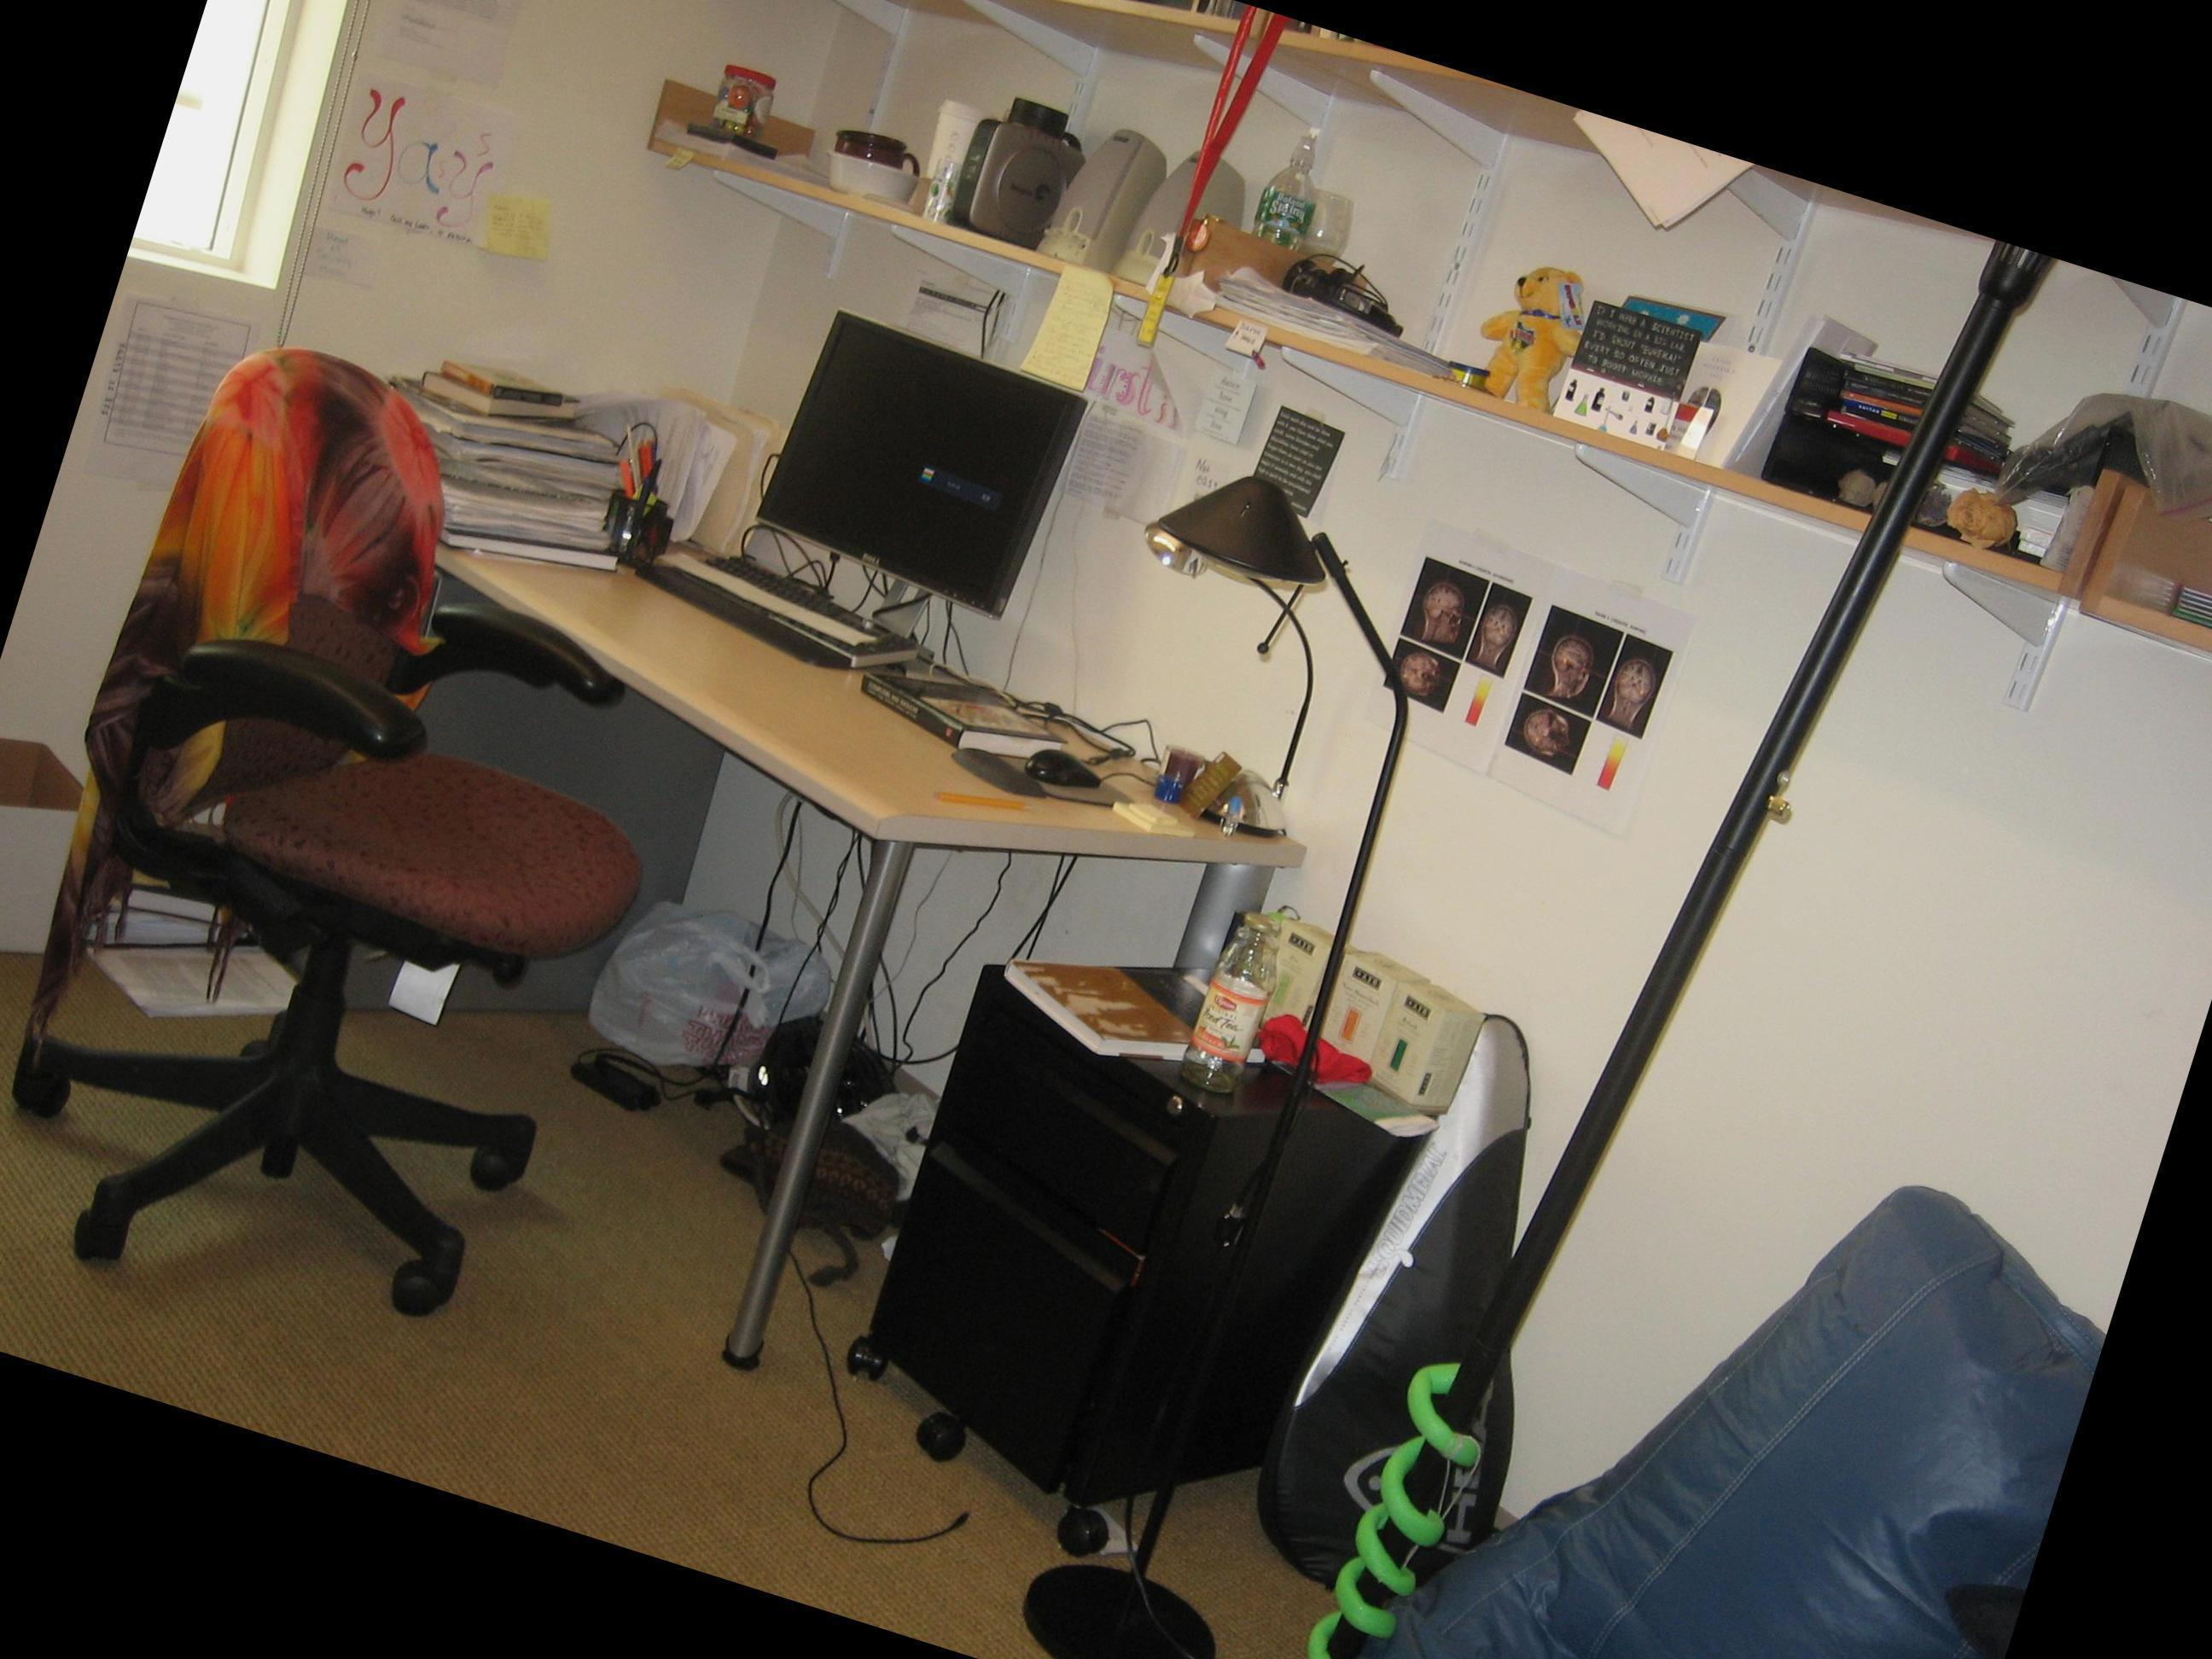Otro Obstaculo: (1336, 1073, 2107, 1659)
